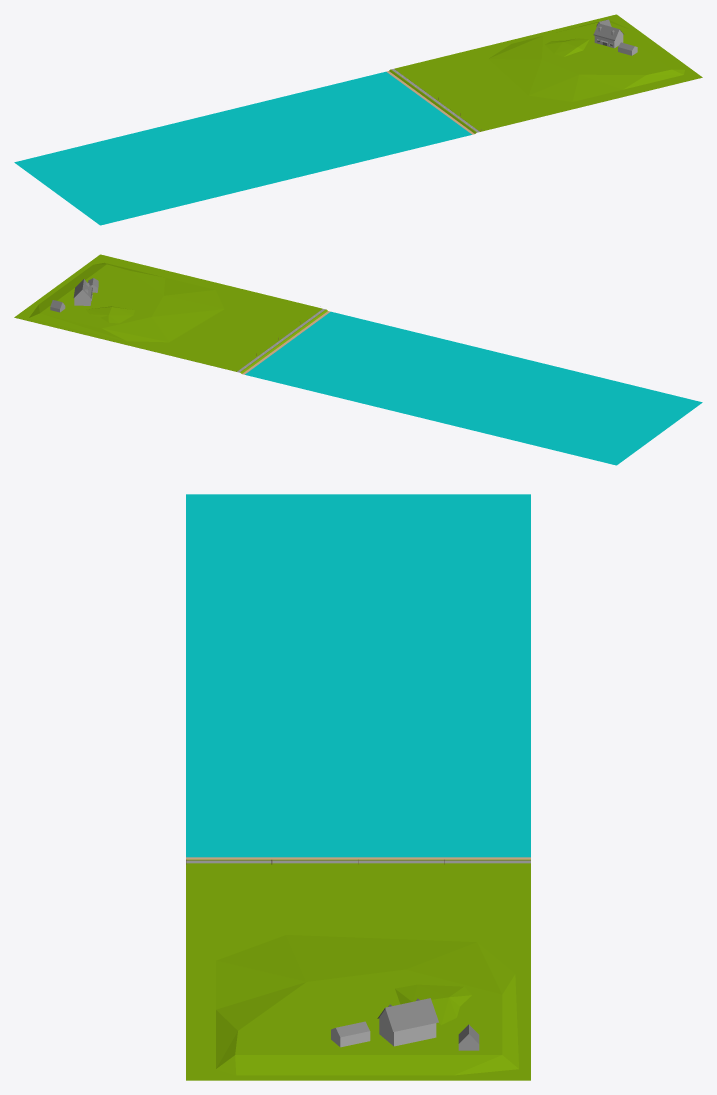
File: searoad05.glb
3 views of the same model, one above another, from view 1: azimuth 30°, elevation 25°; view 2: azimuth 150°, elevation 25°; view 3: azimuth 270°, elevation 25° (orthographic). The views are drawn at different scales.
Parts seen in each view (by area): view 1: Geom3D (×4); view 2: Geom3D (×3); view 3: Geom3D (×6).
Part boxes in pixels (left/top/right/bottom): Geom3D (×4): left=14, top=14, right=702, bottom=225; Geom3D (×3): left=14, top=254, right=702, bottom=465; Geom3D (×6): left=186, top=494, right=530, bottom=1080.
Size of the model in its own units: 1.65e+07 by 549590 by 4085865.
13 materials, 3 textured.
